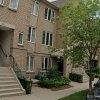stairs: (0, 67, 31, 98)
